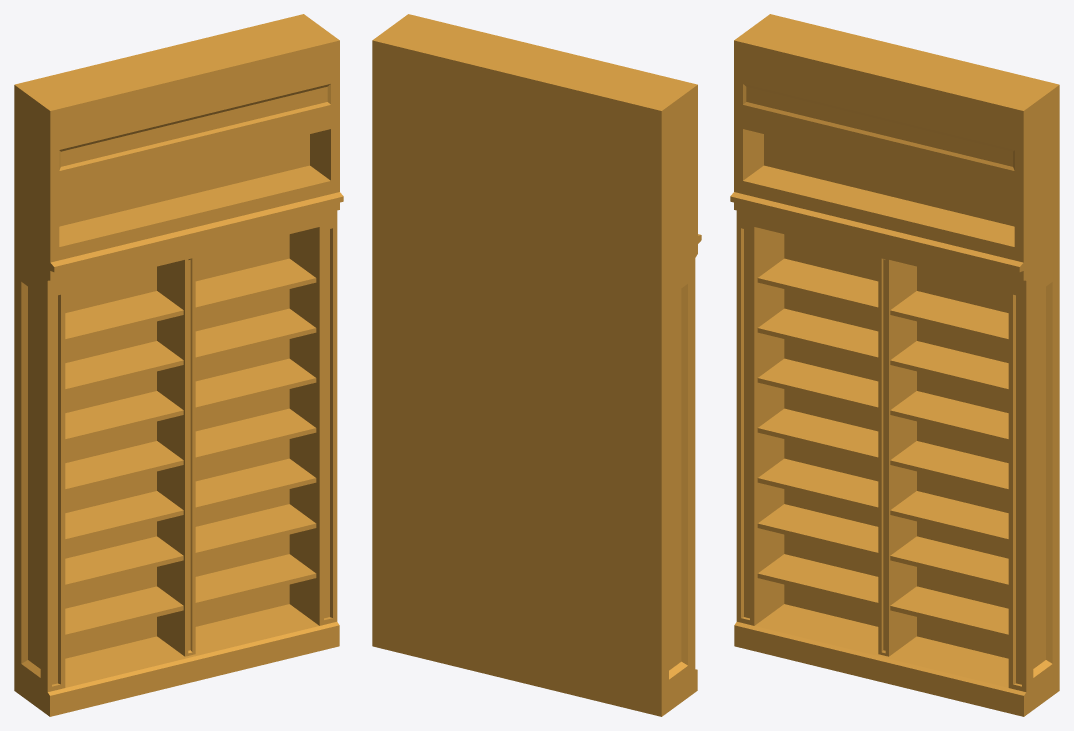
The model's file is Sm_Bookcase_Tall_Modular_2m.fbx.
The picture shows the model from 3 angles, left to right: view 1: azimuth 30°, elevation 25°; view 2: azimuth 150°, elevation 25°; view 3: azimuth 330°, elevation 25°; orthographic projection.
Visible parts, largest first — view 1: bookcase-tall-modular-2m; view 2: bookcase-tall-modular-2m; view 3: bookcase-tall-modular-2m.
Boxes of the visible parts, box(x1,y1,x2,y2) form: bookcase-tall-modular-2m: box(14, 14, 343, 716); bookcase-tall-modular-2m: box(372, 14, 701, 716); bookcase-tall-modular-2m: box(730, 14, 1059, 716).
Bounding box in the file's own units: 2 × 4 × 0.4778.
